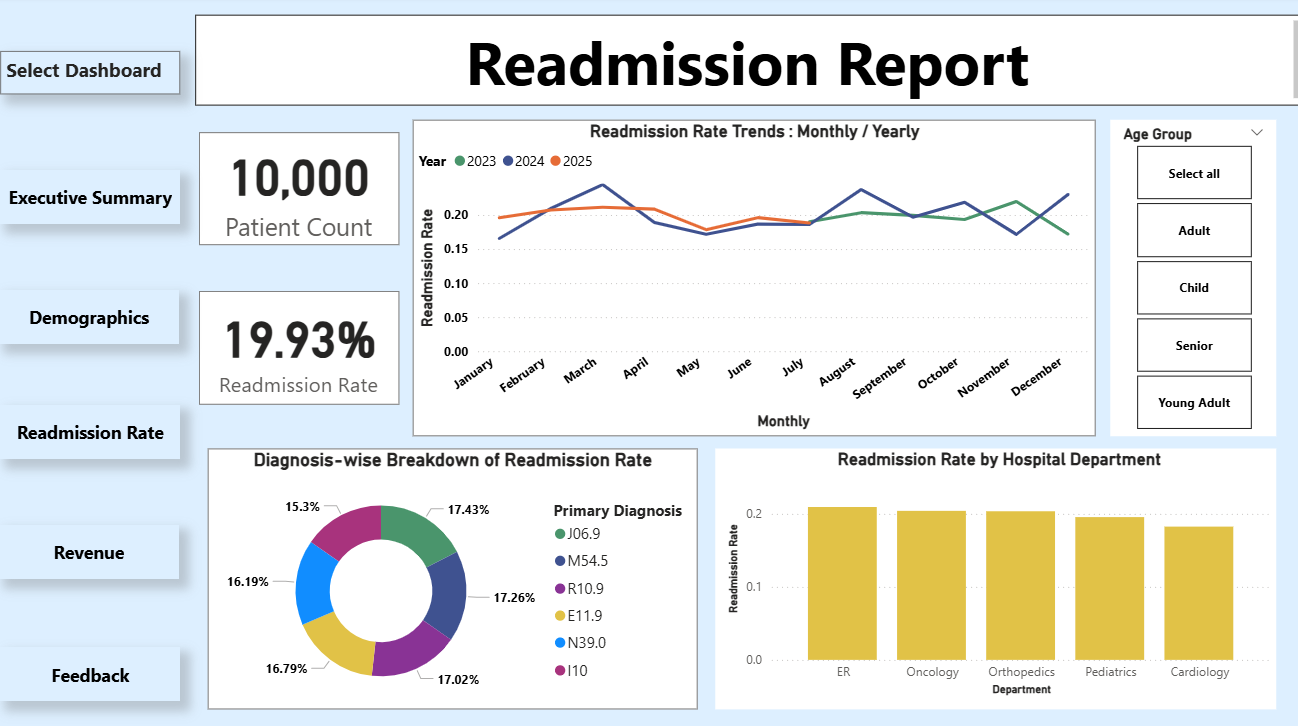

The dashboard page shown, as its layout file describes it:
{"tool":"powerbi","page":{"name":"Readmission Rate","canvas":[1280,720],"ordinal":2},"visuals":[{"type":"card","fields":{"Values":["emr_data.Patient Count"]},"box":[195.7,133.3,195.7,110.1],"z":0},{"type":"textbox","box":[191.4,18.6,1088.6,88.6],"z":1000},{"type":"card","fields":{"Values":["emr_data.Readmission Rate"]},"box":[195.7,288.6,195.7,111.3],"z":2000},{"type":"donutChart","title":"Diagnosis-wise Breakdown of Readmission Rate","fields":{"Y":["emr_data.Readmission Rate"],"Category":["emr_data.Primary Diagnosis"]},"box":[204.2,442.7,479.4,255.6],"z":3000},{"type":"lineChart","title":"Readmission Rate Trends : Monthly / Yearly","fields":{"Category":["emr_data.Visit Date.Variation.Date Hierarchy.Month"],"Y":["emr_data.Readmission Rate"],"Series":["emr_data.Visit Date.Variation.Date Hierarchy.Year"]},"box":[404.8,121.1,667.7,309.4],"z":4000},{"type":"textbox","box":[1.2,53.8,176.1,42.8],"z":5000},{"type":"actionButton","title":"Executive Summary","box":[1.2,399.9,176.1,52.6],"z":6000},{"type":"actionButton","title":"Executive Summary","box":[1.2,170,176.1,52.6],"z":7000},{"type":"actionButton","title":"Executive Summary","box":[0,517.3,176.1,52.6],"z":8000},{"type":"actionButton","title":"Executive Summary","box":[0,287.4,176.1,52.6],"z":9000},{"type":"actionButton","title":"Executive Summary","box":[1.2,637.1,176.1,52.6],"z":10000},{"type":"columnChart","fields":{"Category":["emr_data.Hospital Department"],"Y":["emr_data.Readmission Rate"]},"box":[700.7,442.7,549.1,255.6],"z":11000},{"type":"slicer","fields":{"Values":["emr_data.Age Group"]},"box":[1087.1,121.1,162.6,309.4],"z":12000}]}

Visuals, with their boxes in screenshot pixels (x1, y1, x2, y2), scaled from the page's 1280x720 canvas onto the 1298x726 screenshot:
card - emr_data.Patient Count: pyautogui.locateOnScreen(198, 134, 397, 245)
textbox: pyautogui.locateOnScreen(194, 19, 1297, 108)
card - emr_data.Readmission Rate: pyautogui.locateOnScreen(198, 291, 397, 403)
"Diagnosis-wise Breakdown of Readmission Rate" donutChart: pyautogui.locateOnScreen(207, 446, 693, 704)
"Readmission Rate Trends : Monthly / Yearly" lineChart: pyautogui.locateOnScreen(410, 122, 1088, 434)
textbox: pyautogui.locateOnScreen(1, 54, 180, 97)
"Executive Summary" actionButton: pyautogui.locateOnScreen(1, 403, 180, 456)
"Executive Summary" actionButton: pyautogui.locateOnScreen(1, 171, 180, 224)
"Executive Summary" actionButton: pyautogui.locateOnScreen(0, 522, 179, 575)
"Executive Summary" actionButton: pyautogui.locateOnScreen(0, 290, 179, 343)
"Executive Summary" actionButton: pyautogui.locateOnScreen(1, 642, 180, 695)
columnChart - emr_data.Hospital Department x emr_data.Readmission Rate: pyautogui.locateOnScreen(711, 446, 1267, 704)
slicer - emr_data.Age Group: pyautogui.locateOnScreen(1102, 122, 1267, 434)
